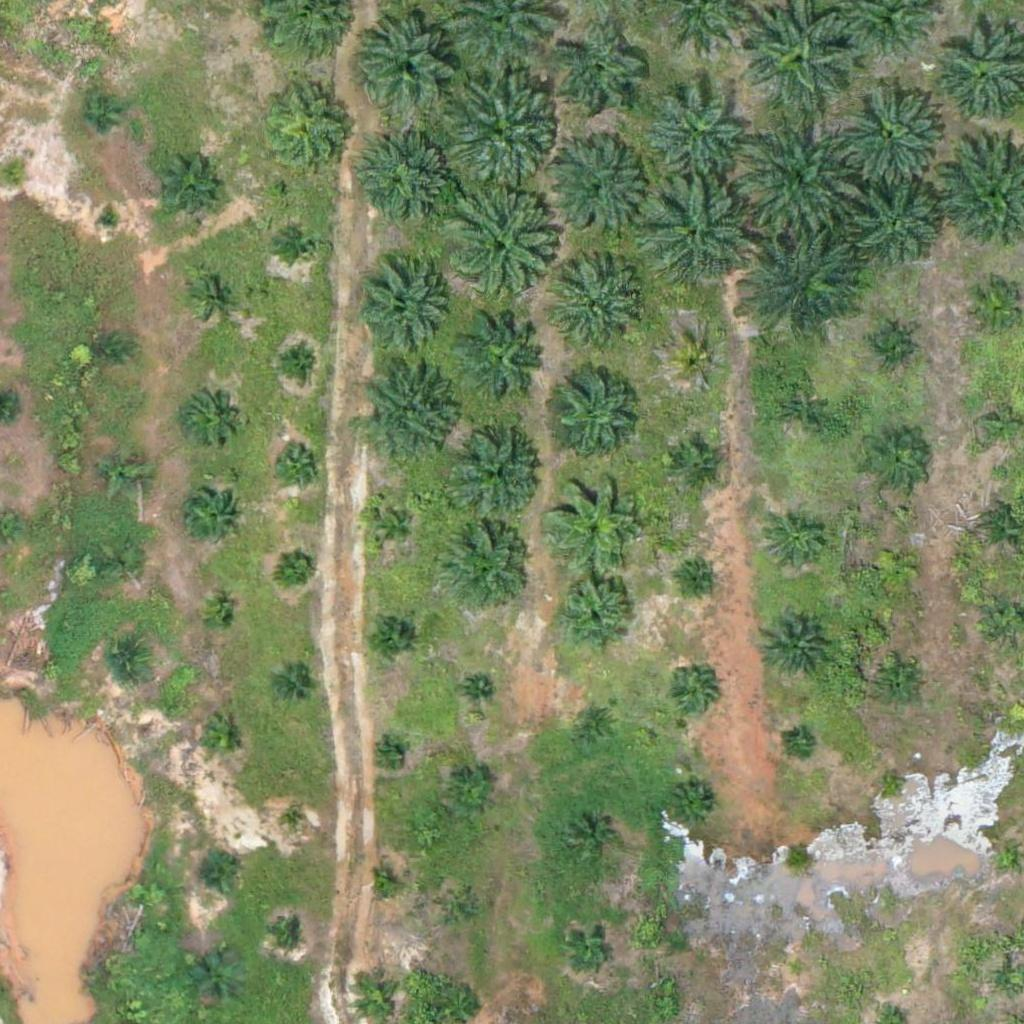Kelapa_Sawit: (735, 111, 860, 237), (743, 222, 868, 348), (436, 69, 561, 194), (436, 188, 561, 313), (643, 180, 756, 293), (835, 72, 947, 186), (647, 81, 747, 182), (551, 27, 651, 128), (546, 136, 646, 237), (360, 14, 460, 115), (357, 133, 457, 234), (354, 261, 454, 362), (259, 79, 359, 180), (544, 471, 644, 572), (362, 363, 462, 464), (557, 265, 645, 354), (551, 572, 639, 660), (853, 183, 941, 271), (442, 521, 530, 609), (454, 429, 542, 517), (461, 316, 549, 404), (551, 361, 638, 449), (757, 608, 832, 684), (154, 160, 217, 223), (865, 431, 927, 494), (765, 510, 827, 573), (181, 487, 243, 550), (769, 380, 831, 443), (184, 390, 234, 441), (862, 322, 912, 373), (871, 541, 921, 592), (197, 714, 247, 765), (100, 447, 150, 498), (672, 439, 722, 489), (877, 662, 927, 712), (666, 668, 716, 718), (669, 782, 719, 832), (566, 921, 616, 971), (566, 814, 616, 864), (573, 700, 623, 750), (446, 770, 496, 820), (365, 610, 415, 660), (193, 954, 243, 1004), (673, 339, 723, 389), (368, 501, 418, 551), (273, 437, 323, 487), (197, 855, 235, 893), (90, 332, 128, 370), (284, 226, 322, 264), (441, 892, 479, 929), (200, 599, 238, 636), (278, 343, 315, 381), (196, 276, 233, 314), (107, 545, 145, 582), (280, 547, 317, 585), (77, 96, 114, 134), (276, 671, 313, 708), (108, 643, 145, 680), (786, 731, 811, 757), (991, 842, 1016, 867), (996, 970, 1021, 995), (879, 769, 904, 794), (377, 741, 402, 766), (370, 871, 395, 896), (282, 810, 307, 835), (276, 922, 301, 947), (687, 567, 712, 592), (96, 206, 121, 231), (785, 958, 810, 983), (465, 677, 489, 702)
